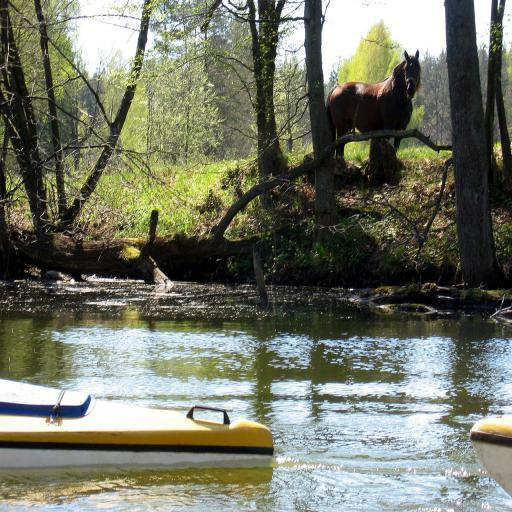horse: (324, 47, 423, 156)
